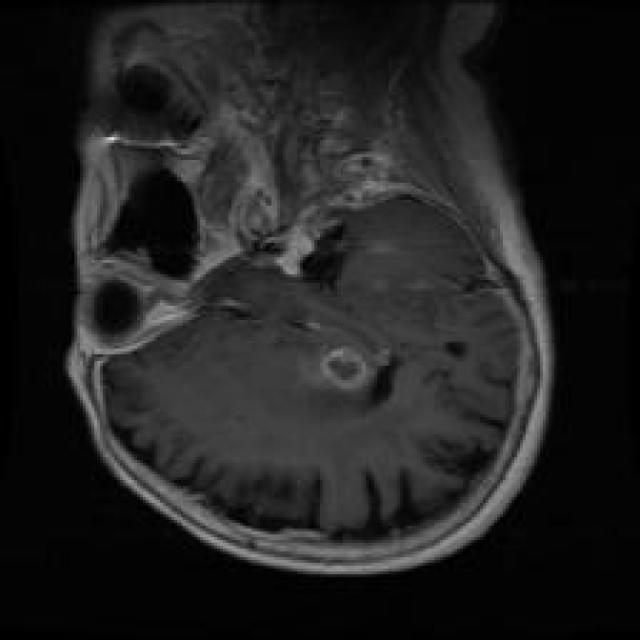glioma_tumor: (258, 290, 417, 414)
